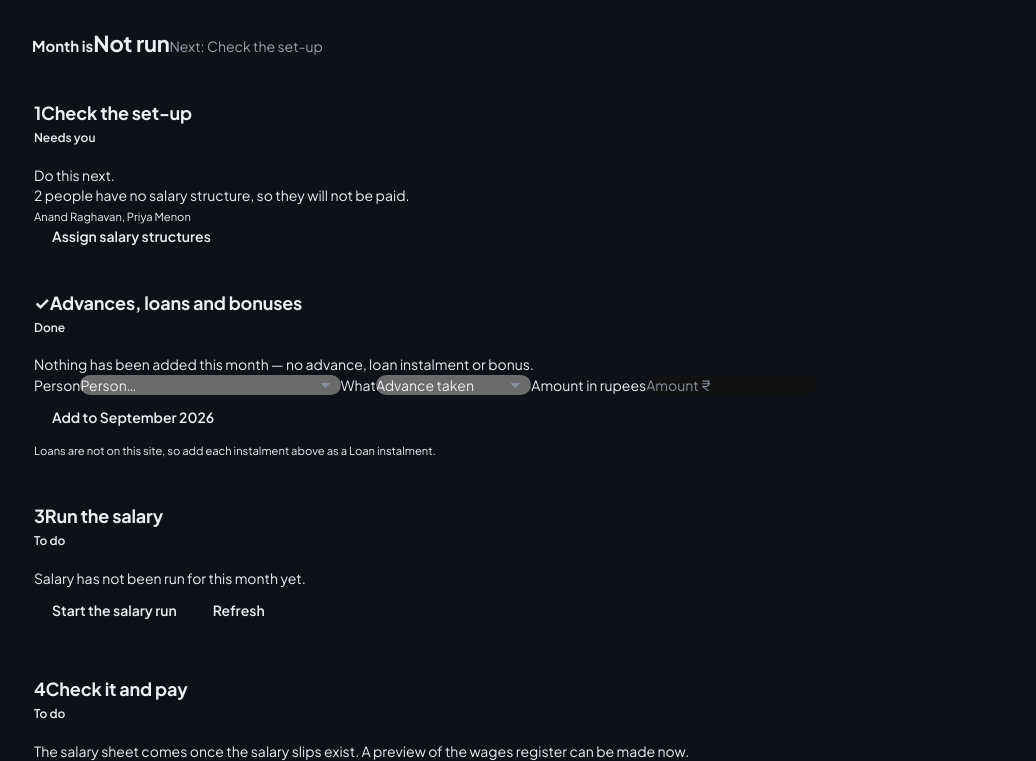
Test: step 2 — advances, loans and bonuses › adds an advance as an Additional Salary dated the month's last day, then submits it
(page scrolled)
Select "Anand Raghavan (HR-EMP-00001)" in the dropdown labelled "Person": point(211, 385) [80,375,341,395]
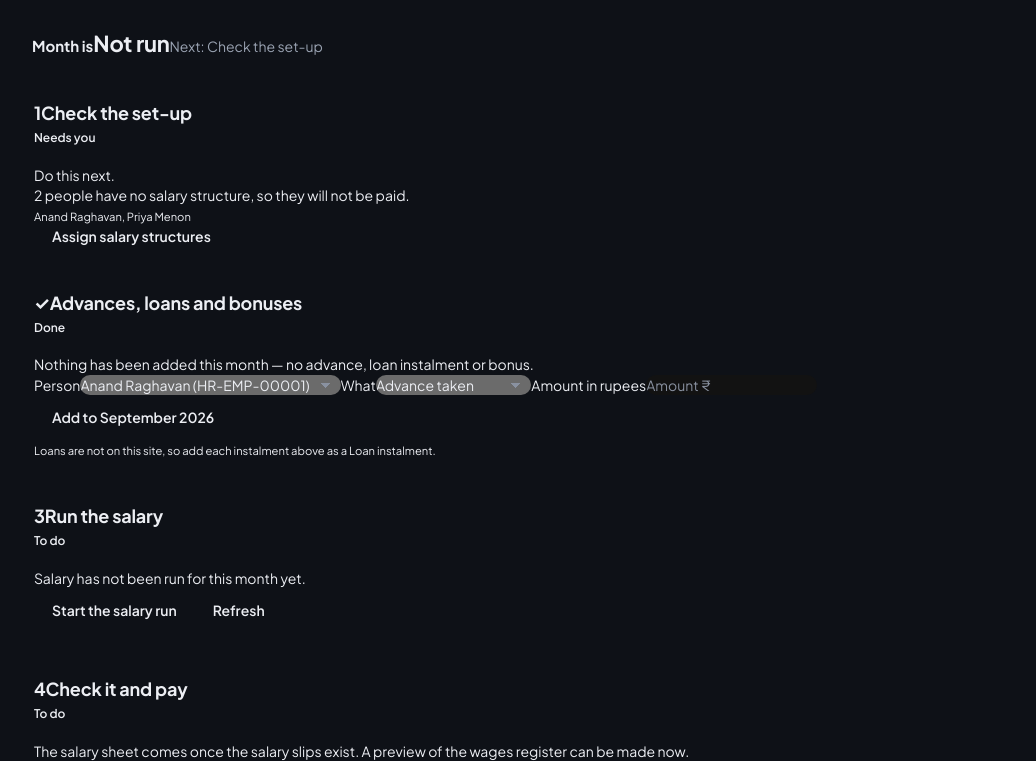
Select "Advance taken" in the dropdown labelled "What": point(454, 385) [376,375,531,395]
In the number field labelled "Amount in rupees": point(732, 385) [646,375,817,395], type "5000"
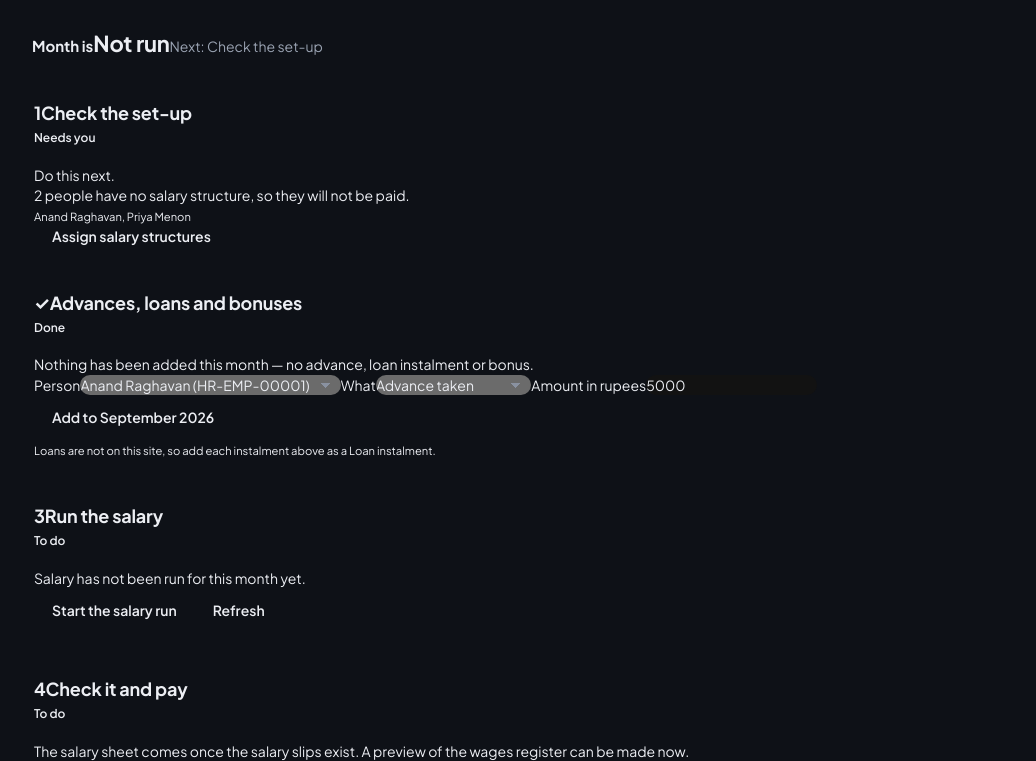
Click the button "Add to September 2026": point(133, 417) [34,395,232,439]
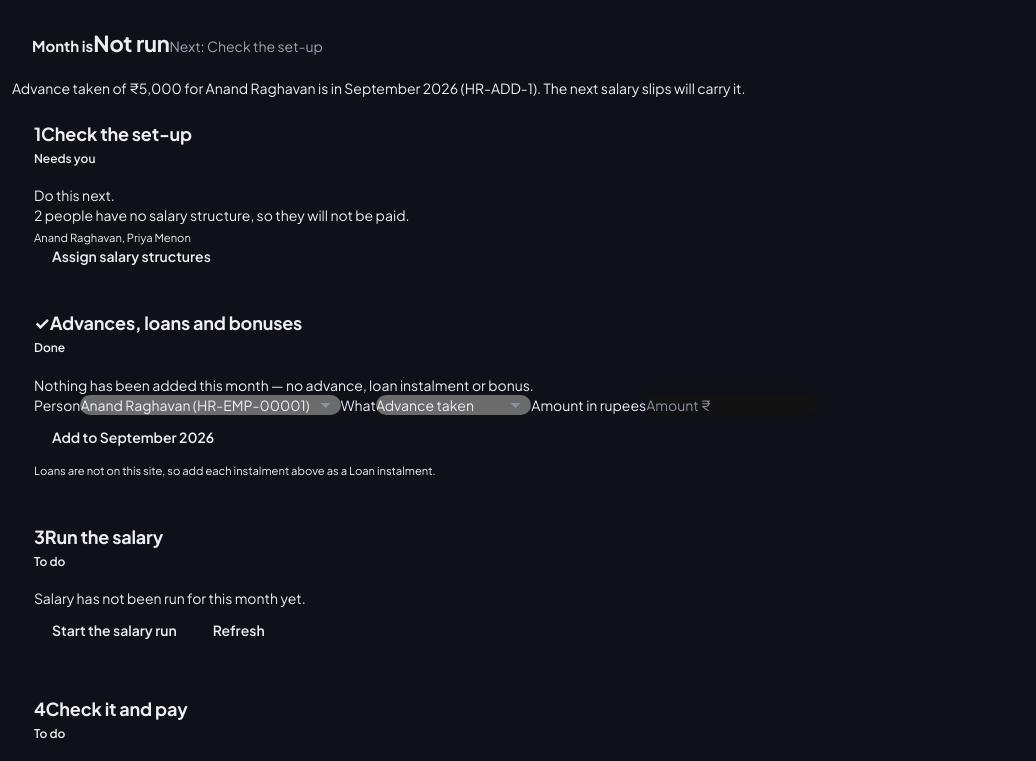
expect the text "Advance taken of ₹5,000" is shown: met, box [12,79,746,97]
